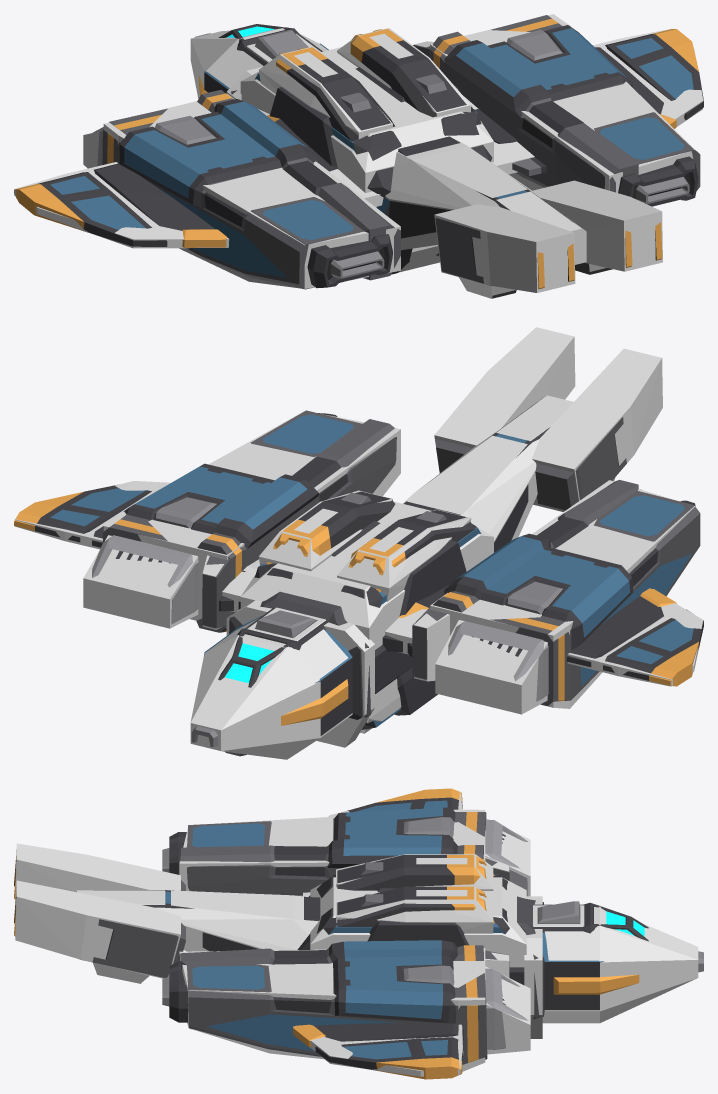
File: SM_Ship_Fighter_Heavy_04.fbx
3 views of the same model, one above another, from view 1: azimuth 30°, elevation 25°; view 2: azimuth 150°, elevation 25°; view 3: azimuth 270°, elevation 25° (orthographic). The views are drawn at different scales.
Parts seen in each view (by area): view 1: SM_Ship_Fighter_Heavy_04_LOD0, SM_Ship_Fighter_Heavy_04_ConvexHulls; view 2: SM_Ship_Fighter_Heavy_04_LOD0, SM_Ship_Fighter_Heavy_04_ConvexHulls; view 3: SM_Ship_Fighter_Heavy_04_LOD0, SM_Ship_Fighter_Heavy_04_ConvexHulls.
Boxes of the visible parts, x1=… form: SM_Ship_Fighter_Heavy_04_LOD0: x1=14, y1=15, x2=703, y2=298; SM_Ship_Fighter_Heavy_04_ConvexHulls: x1=14, y1=14, x2=703, y2=298; SM_Ship_Fighter_Heavy_04_LOD0: x1=14, y1=402, x2=703, y2=756; SM_Ship_Fighter_Heavy_04_ConvexHulls: x1=14, y1=327, x2=703, y2=759; SM_Ship_Fighter_Heavy_04_LOD0: x1=14, y1=788, x2=703, y2=1079; SM_Ship_Fighter_Heavy_04_ConvexHulls: x1=15, y1=791, x2=698, y2=1076.
Size of the model in its own units: 1625 by 1549 by 395.
1 material, 1 textured.
